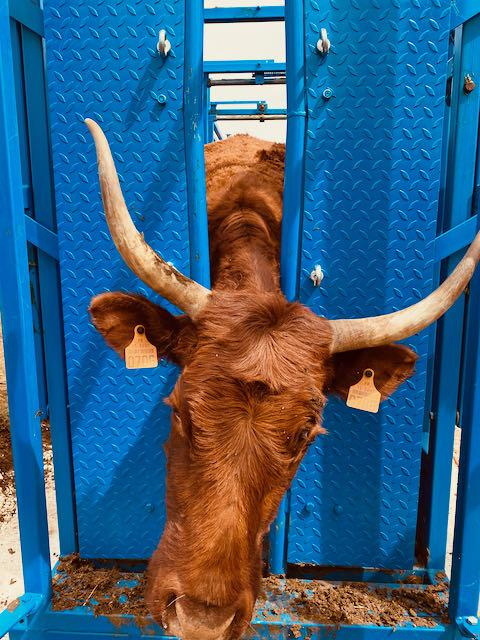muzzles: (147, 574, 252, 640)
